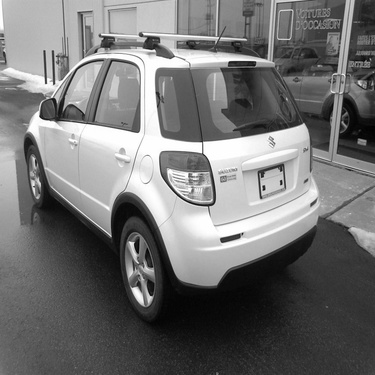car: (21, 26, 331, 332), (272, 56, 374, 140), (263, 34, 323, 79)
